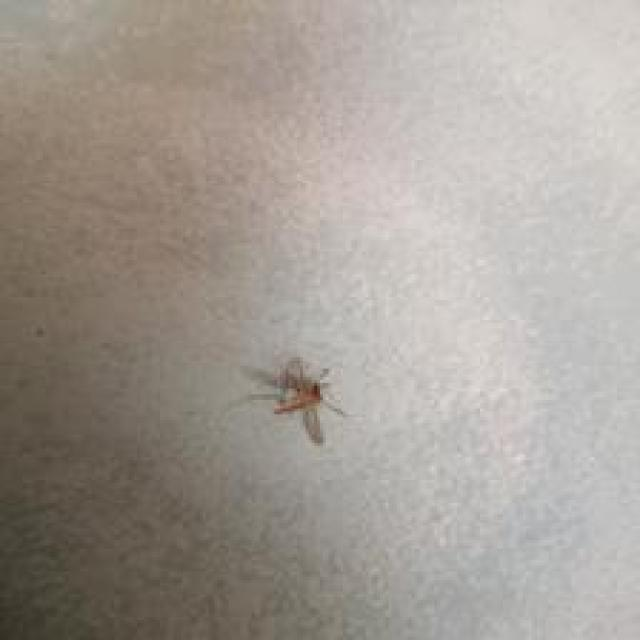Culex: (244, 354, 350, 446)
